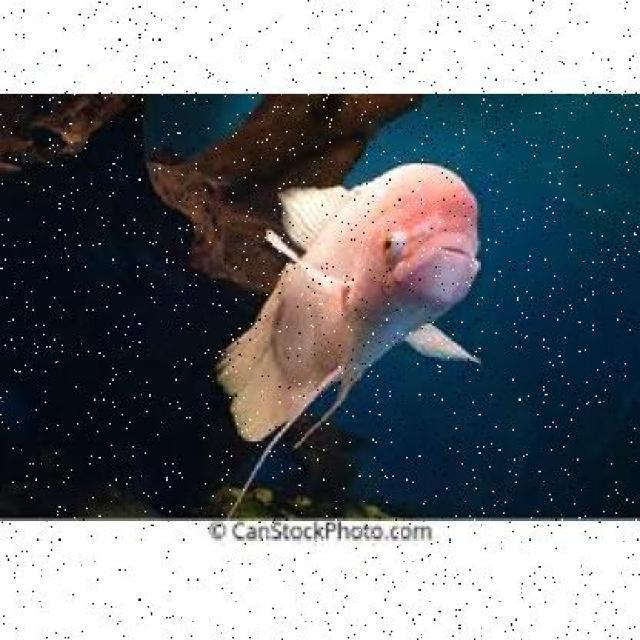gurame: (211, 153, 497, 450)
